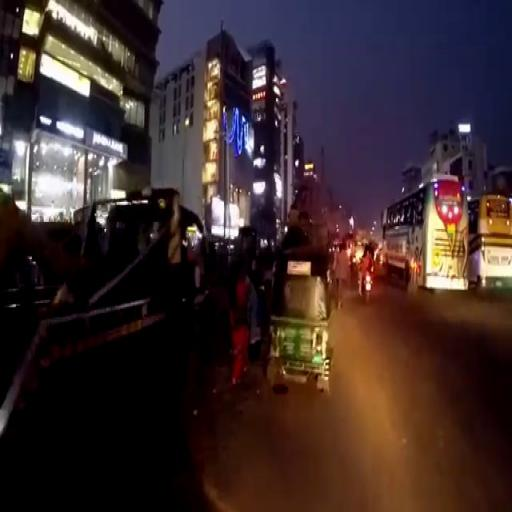bus: (382, 176, 469, 292), (468, 193, 512, 291)
motorbike: (360, 266, 373, 306)
pickup: (1, 193, 212, 470)
three wheelers (CNG): (267, 243, 334, 385)
